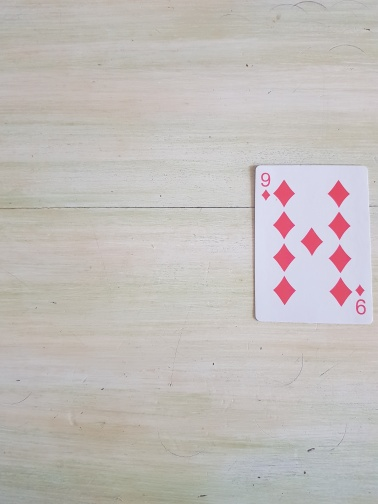nine: (251, 163, 375, 326)
